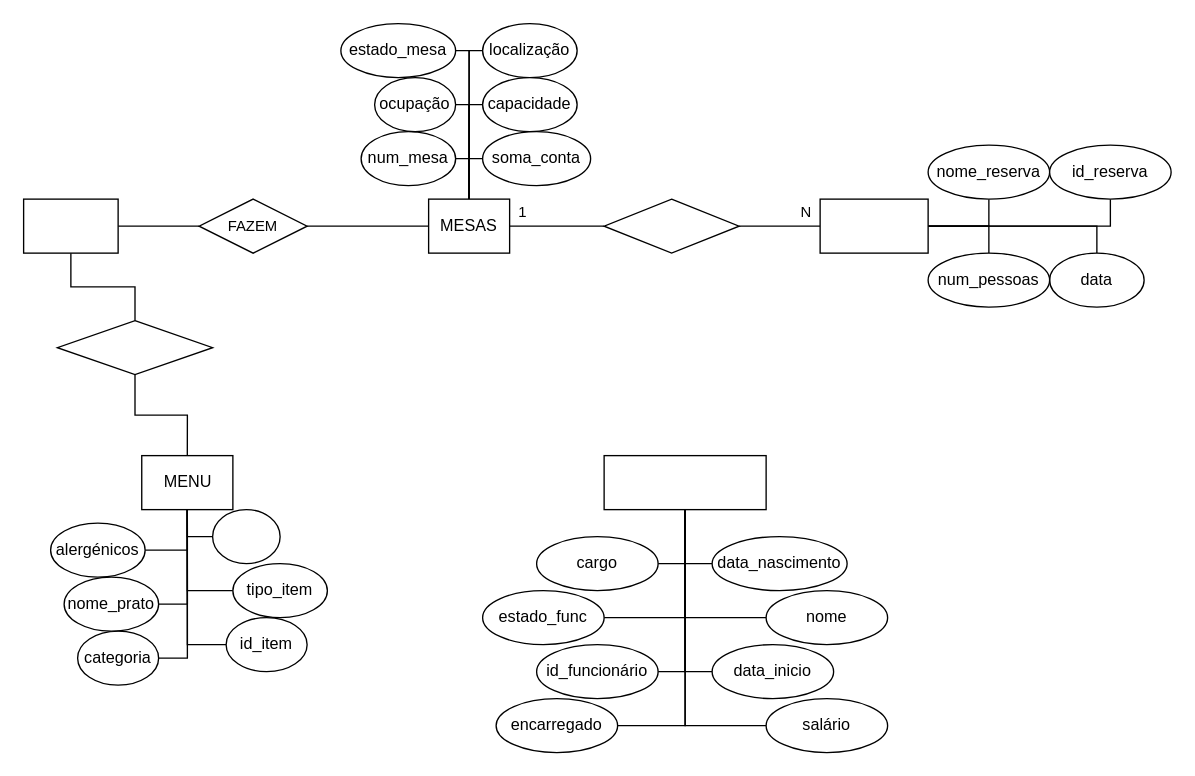
Image size: 1195x776. Some labels were removed from this diagram. The shapes that lost their labels are listed below. From the top down, each one's centre as x and y in pixels, then its label:
(70,225): PEDIDOS
(671,225): RESERVAM
(873,225): RESERVAS
(134,347): RELATIVOS A
(684,482): FUNCIONÁRIOS
(245,536): preco
